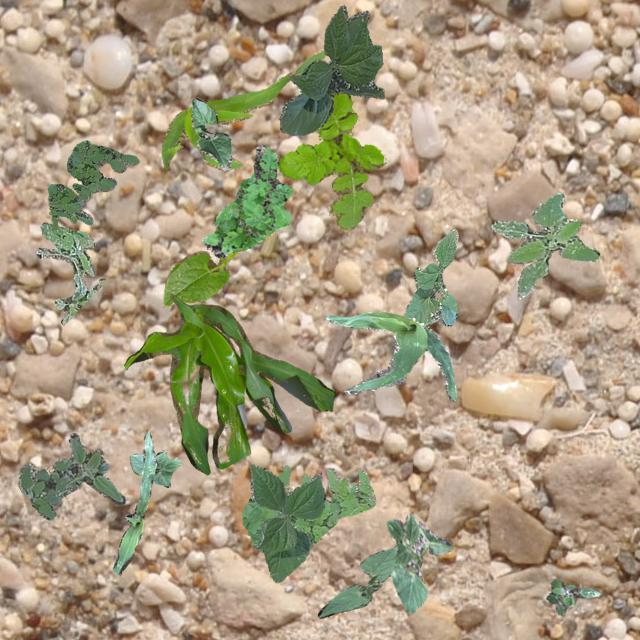crop: (123, 292, 334, 473), (160, 46, 324, 170), (278, 5, 384, 134), (326, 312, 456, 401), (248, 464, 324, 582), (386, 514, 452, 612), (112, 431, 156, 574), (316, 546, 396, 616), (402, 228, 457, 324), (162, 248, 245, 304), (190, 98, 230, 170), (128, 449, 180, 486)
weed: (276, 90, 382, 230), (491, 190, 598, 296), (240, 464, 374, 548), (202, 142, 292, 256), (18, 432, 124, 518), (46, 140, 138, 228), (34, 222, 100, 324), (546, 578, 600, 614)
